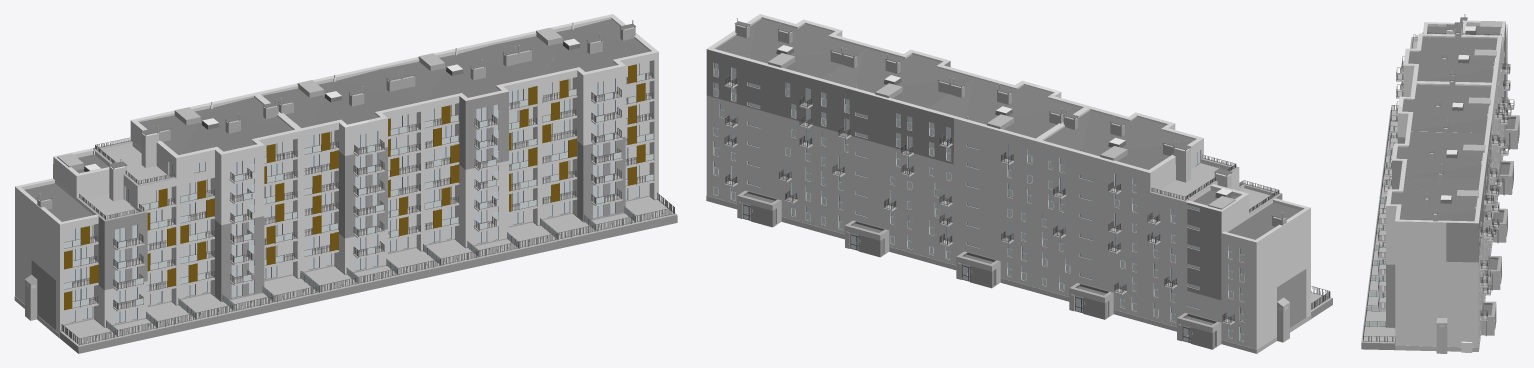
The picture shows the model from 3 angles, left to right: view 1: azimuth 30°, elevation 25°; view 2: azimuth 150°, elevation 25°; view 3: azimuth 270°, elevation 25°; orthographic projection. The views are drawn at different scales.
Parts seen in each view (by area): view 1: 2Beqh8vpH32hXD9JGQslyl, 2TwXNexLXDNATg2ojOlmXj, 2LqqUDyI954u7D6C8Es50D, 2PU_Nu6bv2xwh9i27TbcRP, 2w2wBnJPT9TP1WUhSoKXD7, 2tQNvMXgr4DOAcxPv0fIlw, 2B4LOdMTrFzeEiZaBzklZw, 2XUZQgMd96ERhKjfQC5dSe, 2omsJS6aP8tgHtSWVt5uHL, 1uOoz1MoL7X89LTbUcvpp8, 3PeR4tMRr5POAt9CJwBhoq, 3suZ1ZPPj7FQHSmZ62jGE0 (+17 smaller); view 2: 2Beqh8vpH32hXD9JGQslyl, 2uQWDqlh98LR7EszH2Niqc, 2PU_Nu6bv2xwh9i27TbcRP, 0Bncj5xtbEmxJd2wFeoXcU, 2w2wBnJPT9TP1WUhSoKXD7, 2tQNvMXgr4DOAcxPv0fIlw, 2B4LOdMTrFzeEiZaBzklZw, 2XUZQgMd96ERhKjfQC5dSe, 2vs1sKSeLCEfKKH9QSGSgD, 21UIZsXIP60hcMKi2kbzaN, 3moTo6A7n2iQO9Xl4GMSJr, 0$RfNWpBnAbQtbAucxP_io (+9 smaller); view 3: 2Beqh8vpH32hXD9JGQslyl, 2PU_Nu6bv2xwh9i27TbcRP, 2TwXNexLXDNATg2ojOlmXj, 2w2wBnJPT9TP1WUhSoKXD7, 2tQNvMXgr4DOAcxPv0fIlw, 2XUZQgMd96ERhKjfQC5dSe, 2B4LOdMTrFzeEiZaBzklZw, 2BR4YYEErA$vY$lvJMRTFw, 1z4uO4Biz5wQopYziaLF_r, 0$RfNWpBnAbQtbAucxP_io, 17JcU1I6D8Vgmlo4Ek94ii, 2zR3jMvh5AzQ8xy5kee359 (+26 smaller).
Boxes of the visible parts, x1=… form: 2Beqh8vpH32hXD9JGQslyl: x1=15, y1=17, x2=658, y2=333; 2TwXNexLXDNATg2ojOlmXj: x1=60, y1=196, x2=677, y2=346; 2LqqUDyI954u7D6C8Es50D: x1=60, y1=215, x2=677, y2=353; 2PU_Nu6bv2xwh9i27TbcRP: x1=130, y1=14, x2=658, y2=158; 2w2wBnJPT9TP1WUhSoKXD7: x1=181, y1=111, x2=289, y2=154; 2tQNvMXgr4DOAcxPv0fIlw: x1=308, y1=82, x2=416, y2=126; 2B4LOdMTrFzeEiZaBzklZw: x1=543, y1=30, x2=649, y2=74; 2XUZQgMd96ERhKjfQC5dSe: x1=426, y1=55, x2=533, y2=100; 2omsJS6aP8tgHtSWVt5uHL: x1=465, y1=92, x2=508, y2=169; 1uOoz1MoL7X89LTbUcvpp8: x1=221, y1=216, x2=264, y2=300; 3PeR4tMRr5POAt9CJwBhoq: x1=104, y1=212, x2=147, y2=290; 3suZ1ZPPj7FQHSmZ62jGE0: x1=345, y1=147, x2=387, y2=238; 2Beqh8vpH32hXD9JGQslyl: x1=706, y1=17, x2=1310, y2=349; 2uQWDqlh98LR7EszH2Niqc: x1=706, y1=49, x2=953, y2=164; 2PU_Nu6bv2xwh9i27TbcRP: x1=706, y1=14, x2=1203, y2=173; 0Bncj5xtbEmxJd2wFeoXcU: x1=1187, y1=203, x2=1221, y2=300; 2w2wBnJPT9TP1WUhSoKXD7: x1=1082, y1=110, x2=1194, y2=154; 2tQNvMXgr4DOAcxPv0fIlw: x1=965, y1=78, x2=1079, y2=121; 2B4LOdMTrFzeEiZaBzklZw: x1=749, y1=19, x2=863, y2=61; 2XUZQgMd96ERhKjfQC5dSe: x1=856, y1=48, x2=970, y2=90; 2vs1sKSeLCEfKKH9QSGSgD: x1=706, y1=195, x2=1311, y2=353; 21UIZsXIP60hcMKi2kbzaN: x1=1228, y1=203, x2=1300, y2=239; 3moTo6A7n2iQO9Xl4GMSJr: x1=1277, y1=269, x2=1306, y2=327; 0$RfNWpBnAbQtbAucxP_io: x1=760, y1=47, x2=867, y2=78; 2Beqh8vpH32hXD9JGQslyl: x1=1386, y1=22, x2=1507, y2=347; 2PU_Nu6bv2xwh9i27TbcRP: x1=1386, y1=33, x2=1502, y2=223; 2TwXNexLXDNATg2ojOlmXj: x1=1361, y1=110, x2=1397, y2=343; 2w2wBnJPT9TP1WUhSoKXD7: x1=1408, y1=38, x2=1488, y2=80; 2tQNvMXgr4DOAcxPv0fIlw: x1=1402, y1=87, x2=1486, y2=131; 2XUZQgMd96ERhKjfQC5dSe: x1=1396, y1=133, x2=1480, y2=176; 2B4LOdMTrFzeEiZaBzklZw: x1=1390, y1=178, x2=1474, y2=219; 2BR4YYEErA$vY$lvJMRTFw: x1=1446, y1=222, x2=1478, y2=262; 1z4uO4Biz5wQopYziaLF_r: x1=1416, y1=84, x2=1491, y2=116; 0$RfNWpBnAbQtbAucxP_io: x1=1405, y1=176, x2=1479, y2=207; 17JcU1I6D8Vgmlo4Ek94ii: x1=1410, y1=131, x2=1485, y2=163; 2zR3jMvh5AzQ8xy5kee359: x1=1422, y1=37, x2=1497, y2=64.
Bounding box in the file's own units: 88.11 × 24.27 × 24.51.
